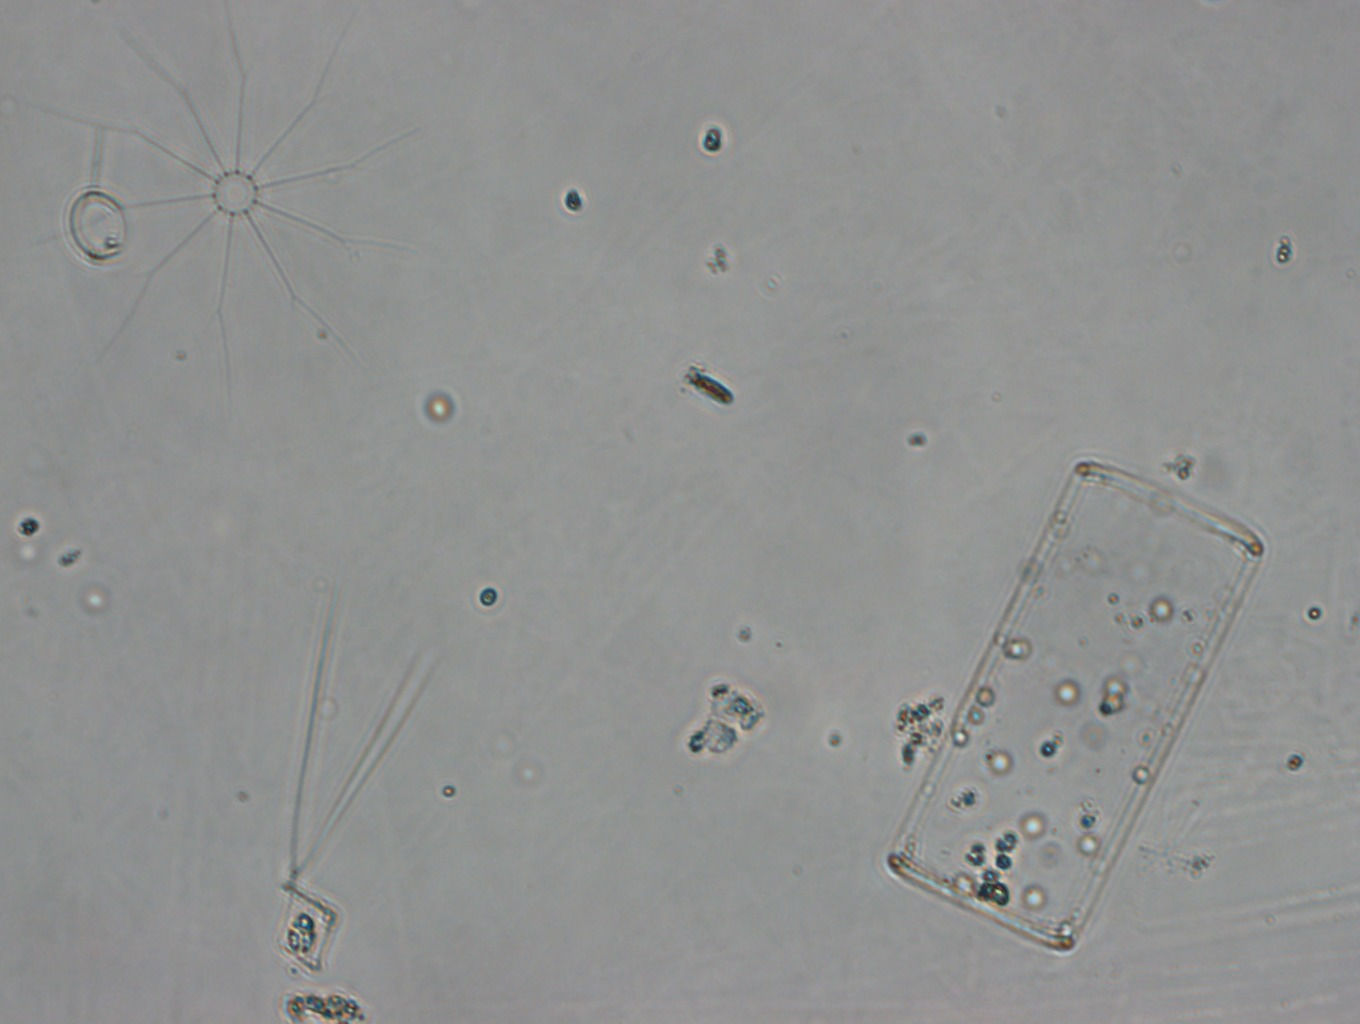bacteriastrum: (44, 26, 417, 374)
chaetoceros: (268, 579, 433, 981)
guinardia flaccida: (884, 446, 1266, 958)
